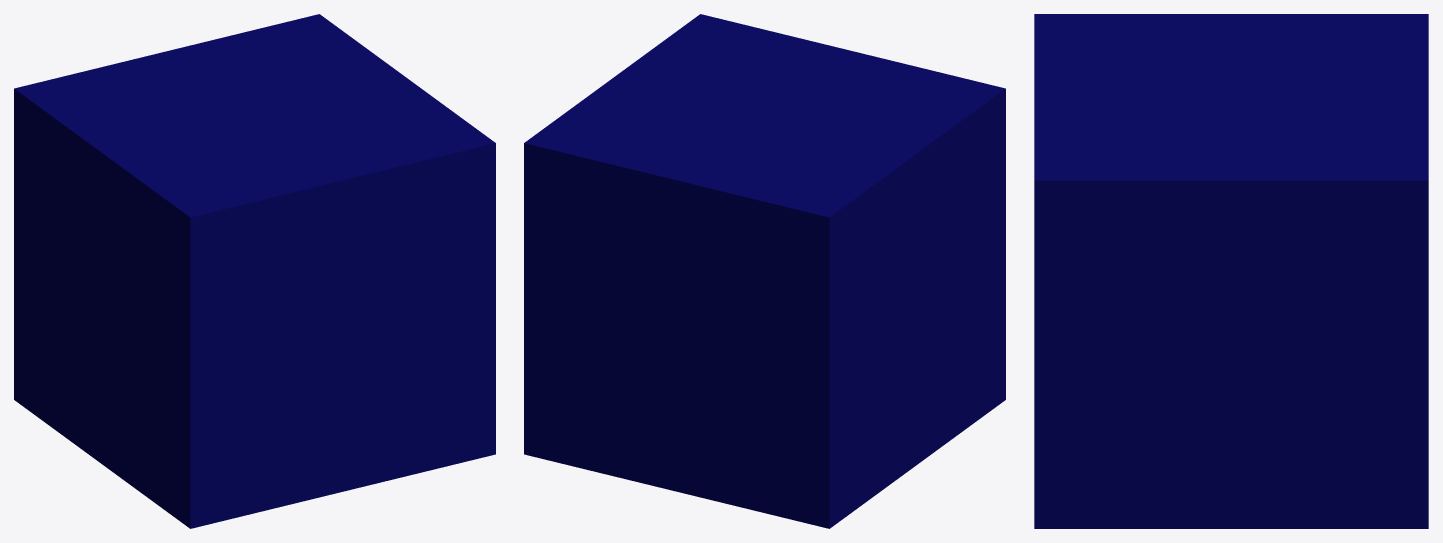
File: pendulum_part_3.dae
3 views of the same model, side by side, from view 1: azimuth 30°, elevation 25°; view 2: azimuth 150°, elevation 25°; view 3: azimuth 270°, elevation 25° (orthographic). The views are drawn at different scales.
Visible parts, largest first — view 1: group_0; view 2: group_0; view 3: group_0.
Part boxes in pixels (<box>): group_0: <box>14,14,495,528</box>; group_0: <box>524,14,1005,528</box>; group_0: <box>1034,14,1428,528</box>.
Size of the model in its own units: 415 by 415 by 404.
